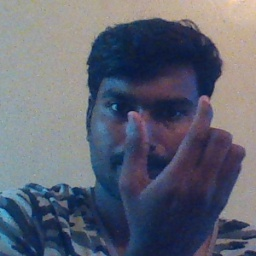U: (119, 95, 249, 239)
